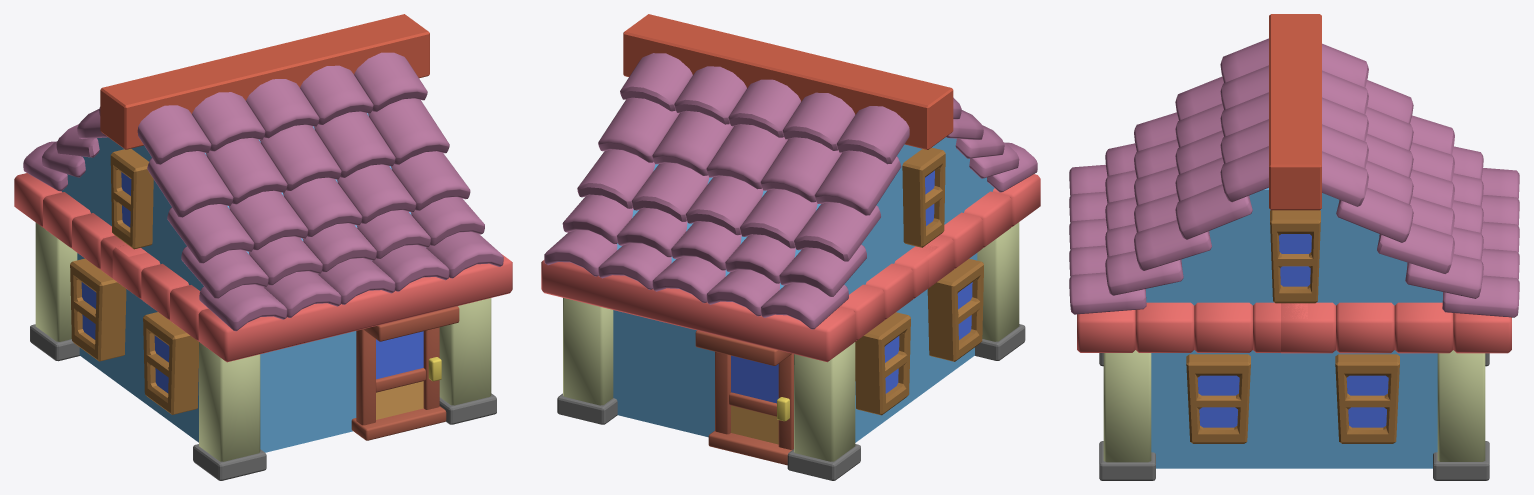
File: storage-v2.glb
The picture shows the model from 3 angles, left to right: view 1: azimuth 30°, elevation 25°; view 2: azimuth 150°, elevation 25°; view 3: azimuth 270°, elevation 25°; orthographic projection. The views are drawn at different scales.
Visible parts, largest first — view 1: Cube.409, Cube.394, Cube.395, Cube.418, Cube.420, Cube.391, Cube.392, Cube.404, Cube.403, Cube.411, Cube.402, Cube.425 (+15 smaller); view 2: Cube.423, Cube.411, Cube.420, Cube.424, Cube.391, Cube.408, Cube.406, Cube.422, Cube.419, Cube.402, Cube.394, Cube.426 (+15 smaller); view 3: Cube.391, Cube.402, Cube.411, Cube.420, Cube.394, Cube.409, Cube.423, Cube.418, Cube.424, Cube.395, Cube.408, Cube.403 (+13 smaller).
Boxes of the visible parts, x1,y1,x2,y2 form: Cube.409: [147, 98, 449, 217]; Cube.394: [112, 244, 512, 362]; Cube.395: [167, 151, 470, 263]; Cube.418: [137, 52, 427, 164]; Cube.420: [100, 14, 429, 149]; Cube.391: [77, 253, 356, 452]; Cube.392: [199, 298, 491, 461]; Cube.404: [181, 197, 484, 298]; Cube.403: [199, 231, 503, 331]; Cube.411: [14, 173, 146, 278]; Cube.402: [62, 113, 411, 290]; Cube.425: [70, 258, 126, 361]; Cube.423: [598, 97, 901, 215]; Cube.411: [541, 244, 938, 362]; Cube.420: [623, 14, 953, 149]; Cube.424: [577, 149, 880, 261]; Cube.391: [613, 253, 977, 442]; Cube.408: [620, 53, 909, 164]; Cube.406: [563, 298, 855, 461]; Cube.422: [562, 195, 866, 296]; Cube.419: [544, 230, 848, 329]; Cube.402: [617, 137, 994, 294]; Cube.394: [911, 174, 1040, 288]; Cube.426: [927, 258, 983, 361]; Cube.391: [1151, 350, 1437, 468]; Cube.402: [1146, 187, 1442, 305]; Cube.411: [1281, 302, 1511, 353]; Cube.420: [1269, 14, 1321, 210]; Cube.394: [1077, 302, 1307, 352]; Cube.409: [1175, 76, 1252, 239]; Cube.423: [1336, 80, 1413, 242]; Cube.418: [1220, 38, 1268, 202]; Cube.424: [1377, 115, 1454, 273]; Cube.395: [1134, 112, 1211, 270]; Cube.408: [1322, 43, 1368, 206]; Cube.403: [1069, 164, 1146, 314].
Bounding box in the file's own units: 4.95 × 4.92 × 6.19.
